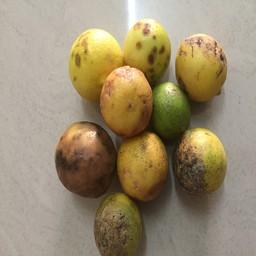Bad_lime: (56, 121, 115, 199), (176, 27, 232, 104), (176, 125, 231, 197), (117, 133, 170, 200), (93, 192, 148, 256), (98, 66, 150, 131), (125, 17, 171, 81), (70, 25, 104, 102)
